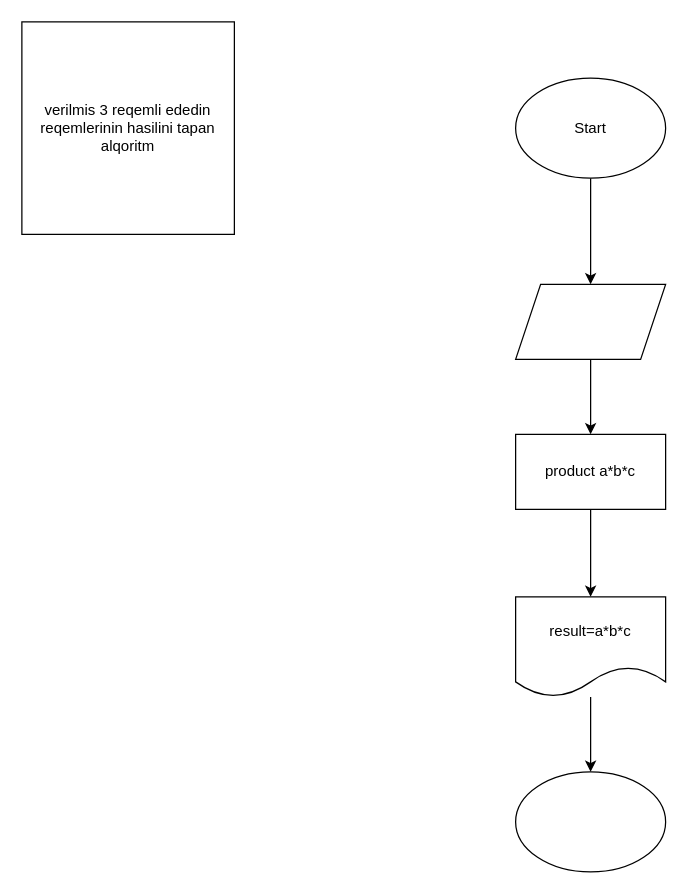
Some shapes in this 688 by 894 pixel diagram are drawn without their labels. Here are the shapes that lost their labels. From the top down, the centre of each, then its label:
(x=590, y=321): abc
(x=590, y=821): End
